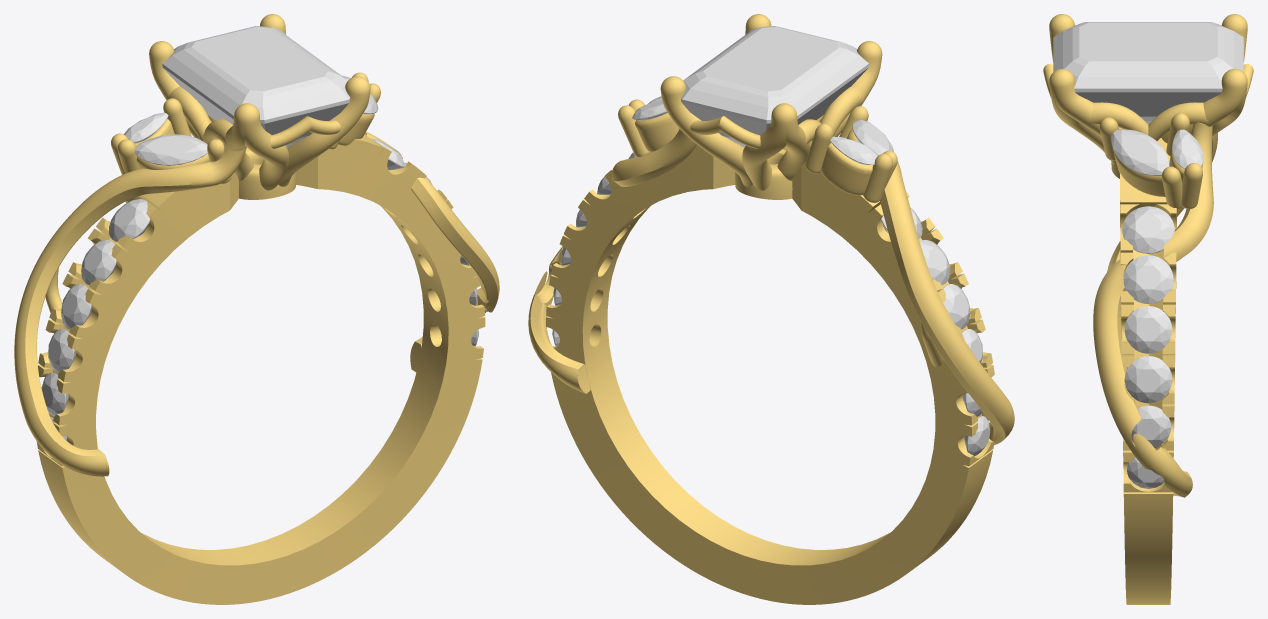
The model's file is StephanV2tulip_blender.glb.
3 renders of one model, left to right at view 1: azimuth 30°, elevation 25°; view 2: azimuth 150°, elevation 25°; view 3: azimuth 270°, elevation 25°, orthographic.
Visible parts, largest first — view 1: V2 Stephan YG for 3d model, V2 Stephan center dia for 3d model, V2 Stephan side m and p dia for 3d model.003, V2 Stephan round dia for 3d model.005, V2 Stephan round dia for 3d model.004, V2 Stephan round dia for 3d model.003, V2 Stephan round dia for 3d model.002, V2 Stephan round dia for 3d model.001, V2 Stephan side m and p dia for 3d model.002; view 2: V2 Stephan YG for 3d model, V2 Stephan center dia for 3d model, V2 Stephan round dia for 3d model.004, V2 Stephan round dia for 3d model.003, V2 Stephan side m and p dia for 3d model.003, V2 Stephan side m and p dia for 3d model.002; view 3: V2 Stephan YG for 3d model, V2 Stephan center dia for 3d model, V2 Stephan side m and p dia for 3d model, V2 Stephan round dia for 3d model.006, V2 Stephan round dia for 3d model.007, V2 Stephan round dia for 3d model.008, V2 Stephan round dia for 3d model.009, V2 Stephan round dia for 3d model.010, V2 Stephan side m and p dia for 3d model.001, V2 Stephan round dia for 3d model.011.
Boxes of the visible parts, x1,y1,x2,y2 form: V2 Stephan YG for 3d model: (14,14,499,604); V2 Stephan center dia for 3d model: (162,26,350,146); V2 Stephan side m and p dia for 3d model.003: (134,134,207,165); V2 Stephan round dia for 3d model.005: (109,199,150,241); V2 Stephan round dia for 3d model.004: (81,240,116,285); V2 Stephan round dia for 3d model.003: (61,284,91,329); V2 Stephan round dia for 3d model.002: (48,329,75,372); V2 Stephan round dia for 3d model.001: (41,372,68,416); V2 Stephan side m and p dia for 3d model.002: (124,112,168,143); V2 Stephan YG for 3d model: (528,14,1014,604); V2 Stephan center dia for 3d model: (681,26,868,147); V2 Stephan round dia for 3d model.004: (919,240,950,285); V2 Stephan round dia for 3d model.003: (943,284,970,329); V2 Stephan side m and p dia for 3d model.003: (852,119,893,155); V2 Stephan side m and p dia for 3d model.002: (830,136,878,164); V2 Stephan YG for 3d model: (1043,14,1253,604); V2 Stephan center dia for 3d model: (1053,22,1243,124); V2 Stephan side m and p dia for 3d model: (1111,129,1169,175); V2 Stephan round dia for 3d model.006: (1122,206,1174,253); V2 Stephan round dia for 3d model.007: (1123,255,1173,303); V2 Stephan round dia for 3d model.008: (1124,306,1172,353); V2 Stephan round dia for 3d model.009: (1124,356,1172,403); V2 Stephan round dia for 3d model.010: (1131,405,1170,447); V2 Stephan side m and p dia for 3d model.001: (1172,129,1203,168); V2 Stephan round dia for 3d model.011: (1127,457,1164,488).
Bounding box in the file's own units: 23.19 × 24.99 × 8.83.
